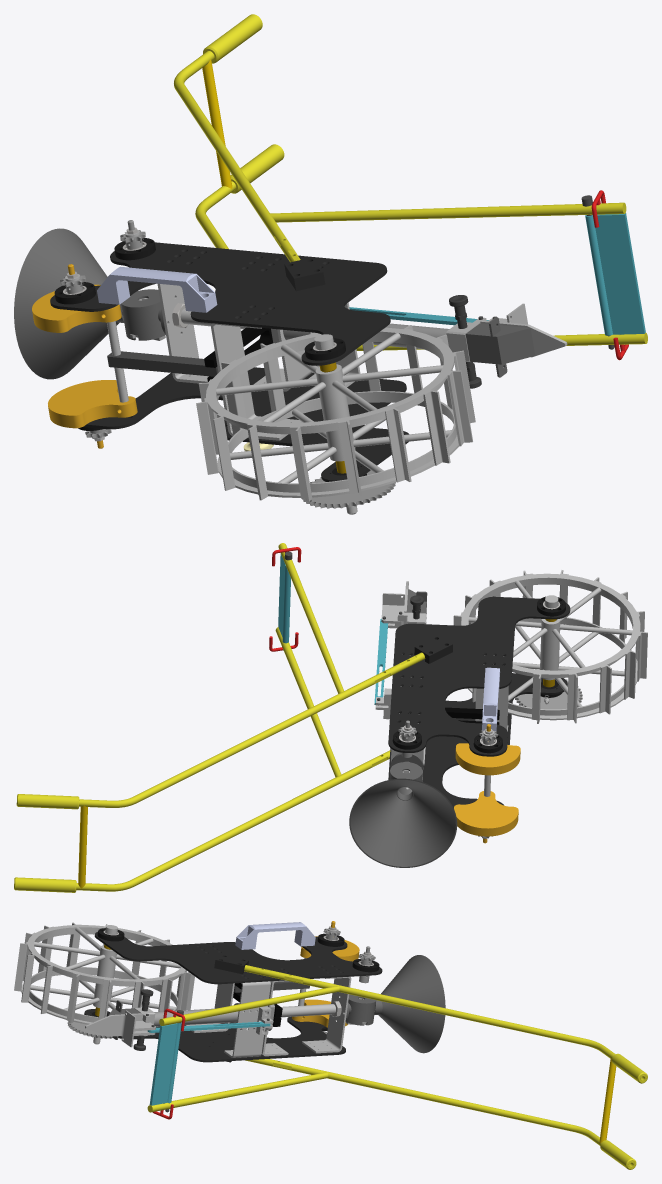
The model's file is Onedril_FULL ASSY.fbx.
3 views of the same model, one above another, from view 1: azimuth 30°, elevation 25°; view 2: azimuth 150°, elevation 25°; view 3: azimuth 270°, elevation 25° (orthographic). The views are drawn at different scales.
Visible parts, largest first — view 1: Body1 (×24), Body2; view 2: Body1 (×19); view 3: Body1 (×23), Body2.
Part boxes in pixels (x1=…): Body1 (×24): x1=14, y1=14, x2=647, y2=508; Body2: x1=595, y1=213, x2=645, y2=334; Body1 (×19): x1=14, y1=543, x2=647, y2=892; Body1 (×23): x1=14, y1=921, x2=647, y2=1169; Body2: x1=149, y1=1023, x2=177, y2=1105.
Bounding box in the file's own units: 724 × 346 × 1287.
